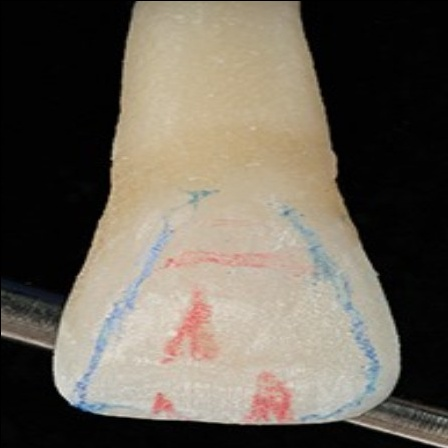coin_1: (335, 183, 355, 203)
coin_2: (387, 310, 407, 330)
coin_3: (110, 190, 130, 210)
coin_4: (62, 309, 82, 329)
